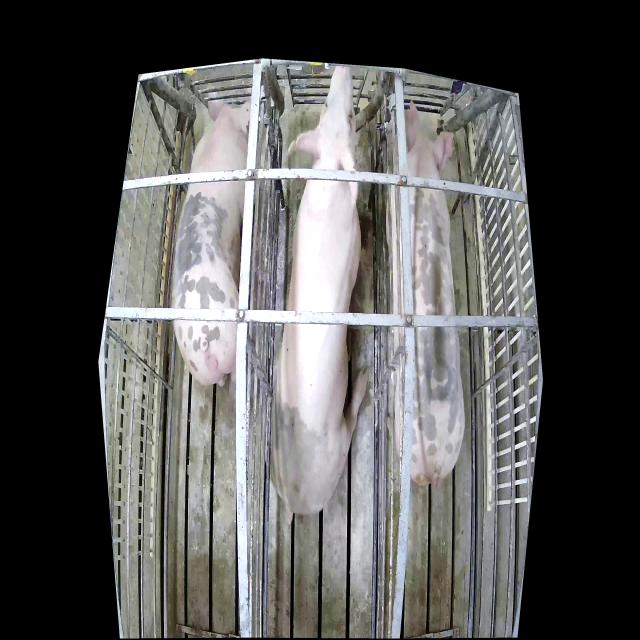pig: (270, 68, 366, 511), (386, 101, 463, 488), (174, 101, 250, 397)
